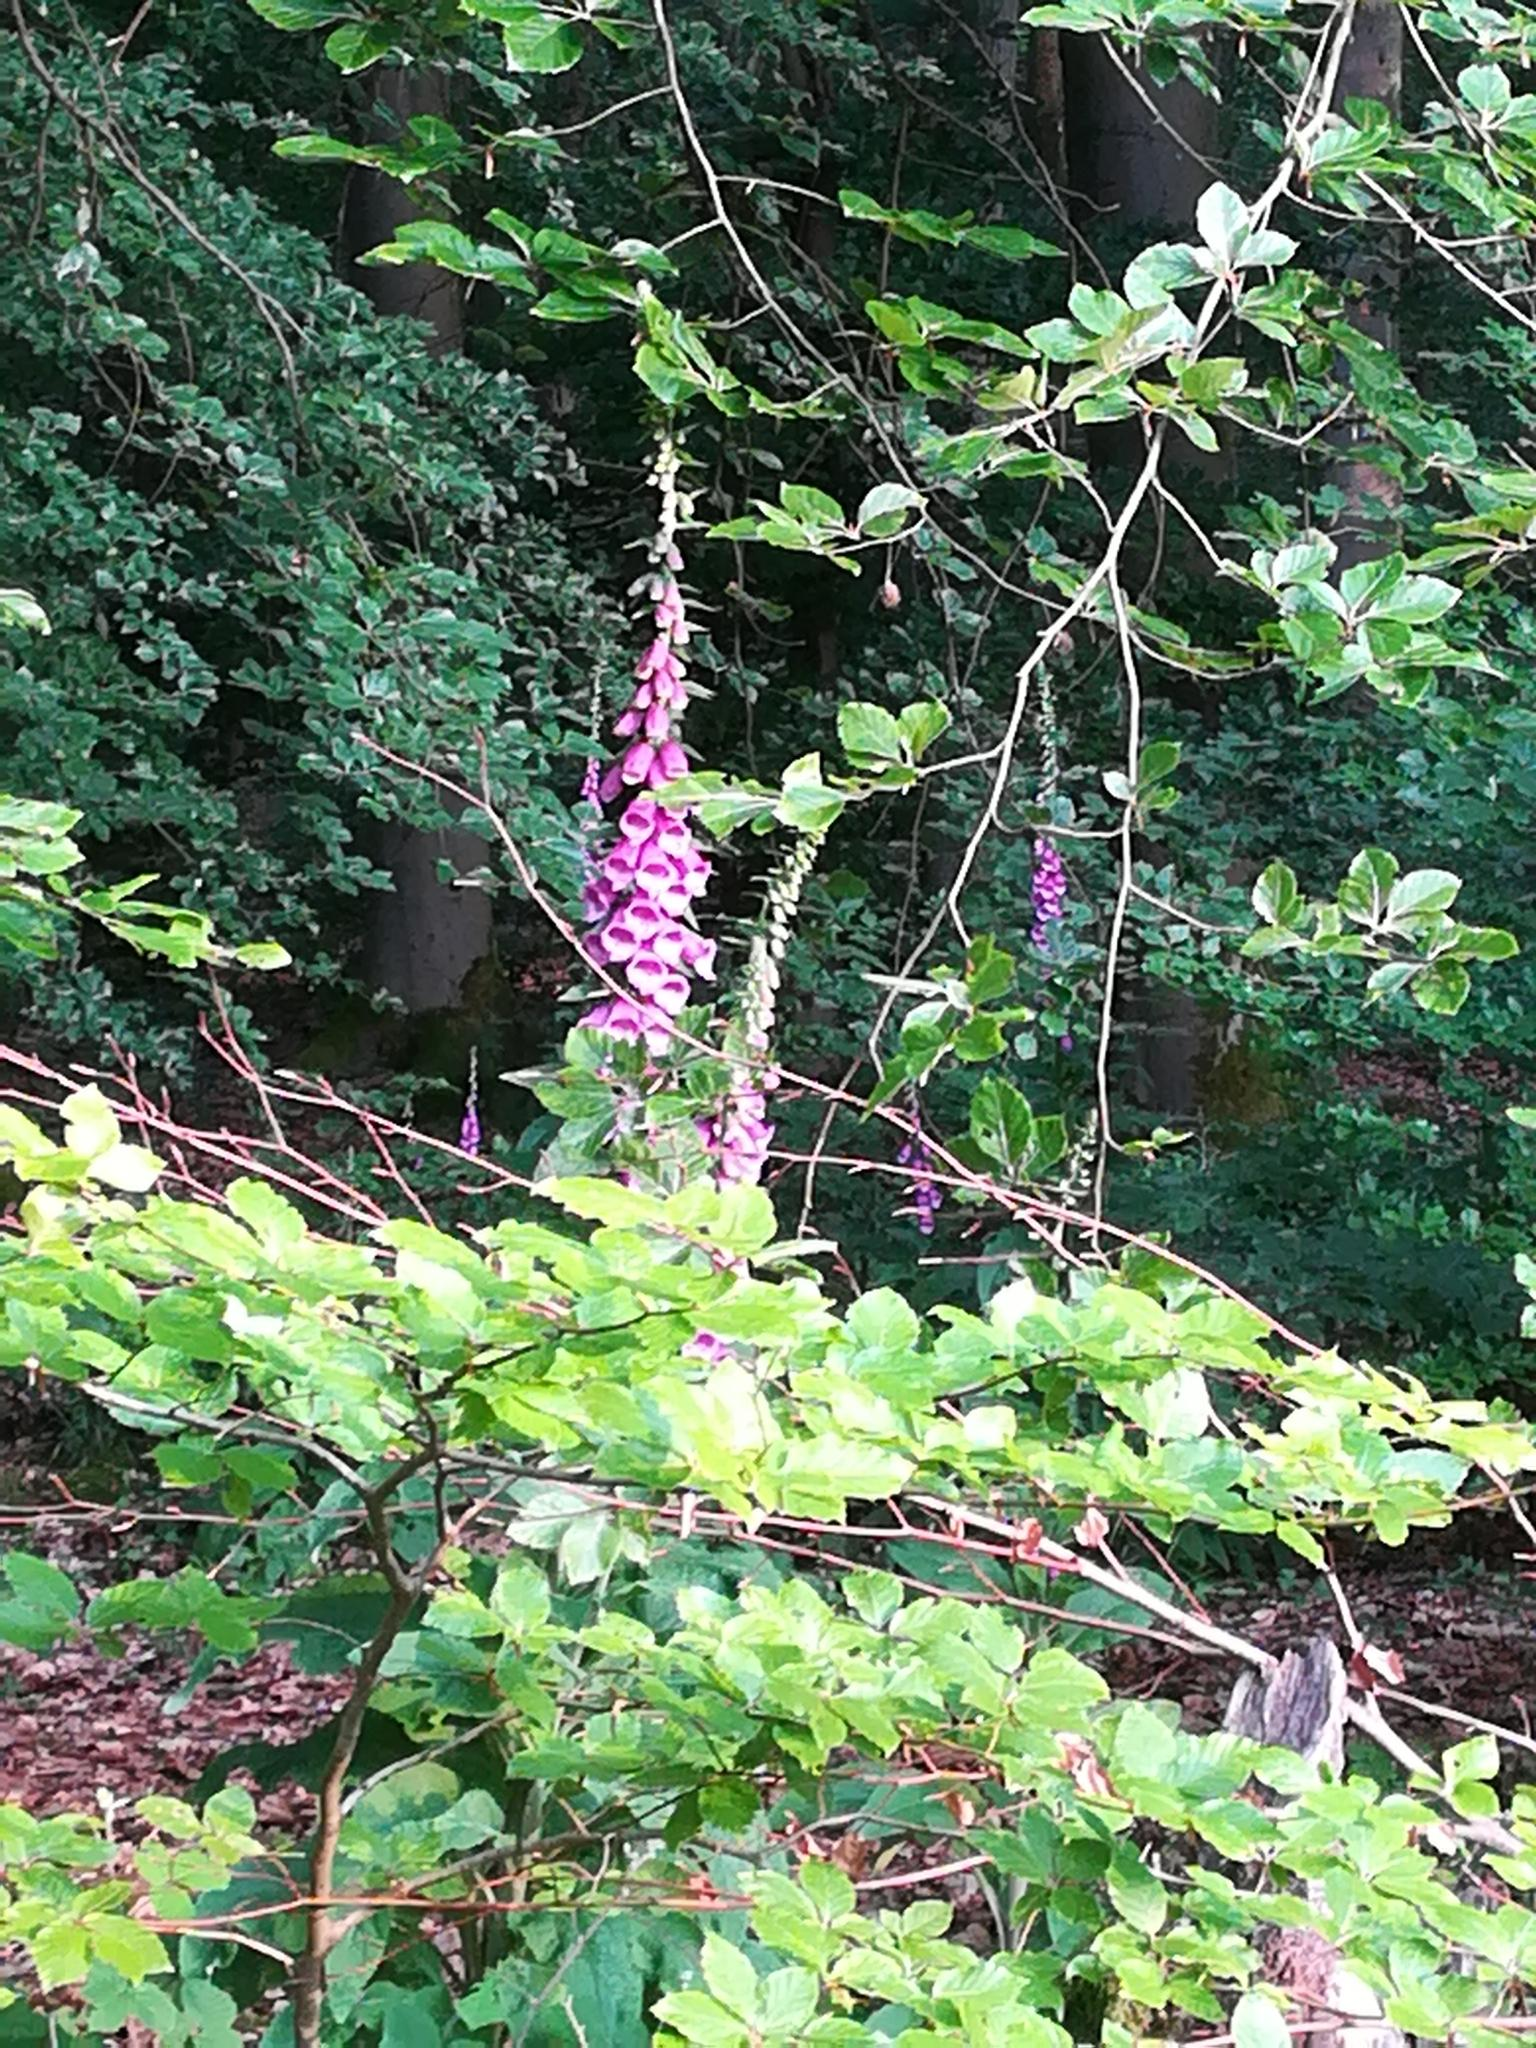Digitalis L: (534, 448, 744, 1206), (715, 835, 837, 1200), (1013, 666, 1091, 974)
